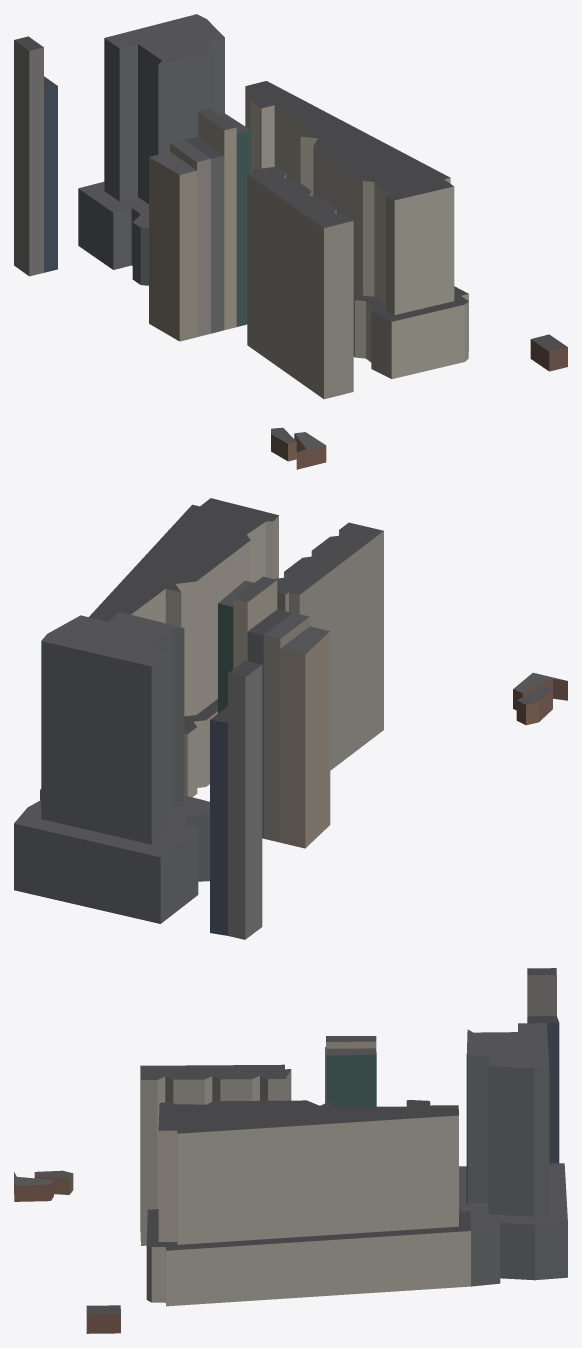
File: 2_-8.far.glb
The picture shows the model from 3 angles, top to bottom: view 1: azimuth 30°, elevation 25°; view 2: azimuth 150°, elevation 25°; view 3: azimuth 270°, elevation 25°; orthographic projection. The views are drawn at different scales.
Parts seen in each view (by area): view 1: 2_-8_far; view 2: 2_-8_far; view 3: 2_-8_far.
Part boxes in pixels (bbox=[...]): 2_-8_far: bbox=[14, 14, 567, 469]; 2_-8_far: bbox=[14, 498, 567, 939]; 2_-8_far: bbox=[14, 968, 567, 1333].
Size of the model in its own units: 136 by 94.3 by 217.
